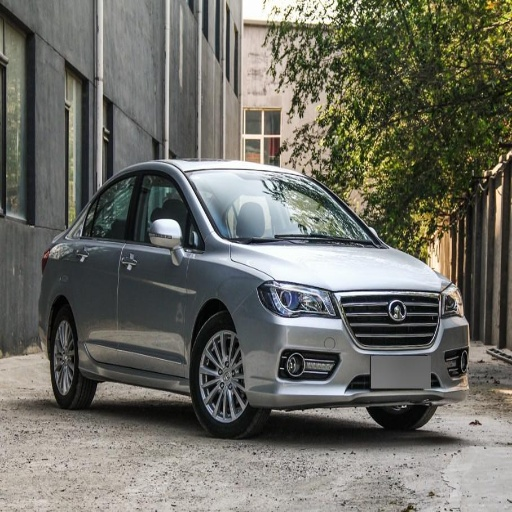front_bumper: (239, 289, 468, 409)
front_right_door: (121, 166, 200, 374)
front_right_light: (258, 281, 336, 316)
trunk: (22, 244, 64, 328)
